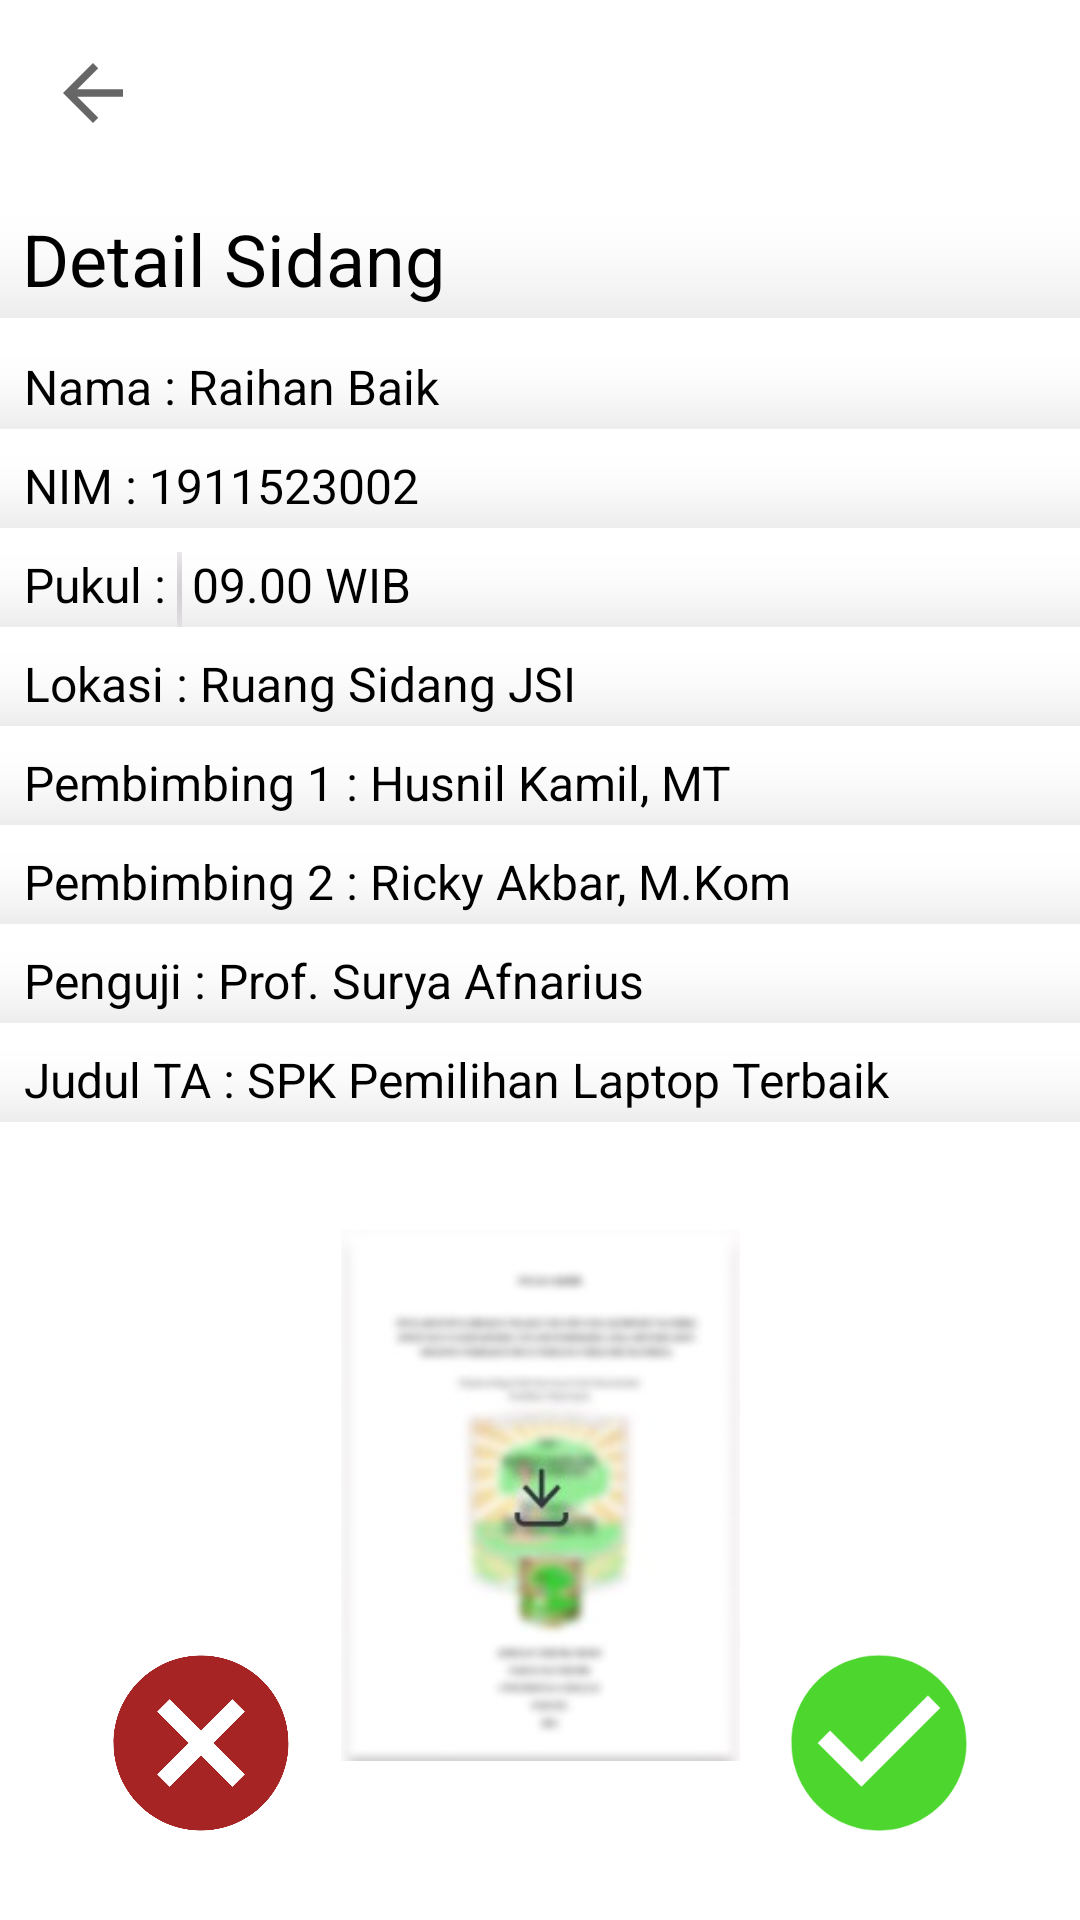

Point at icon controls on the screen. Image size 1080px x 1920px, points as [x,y].
check circle: [879,1743]
Reject: [201,1743]
